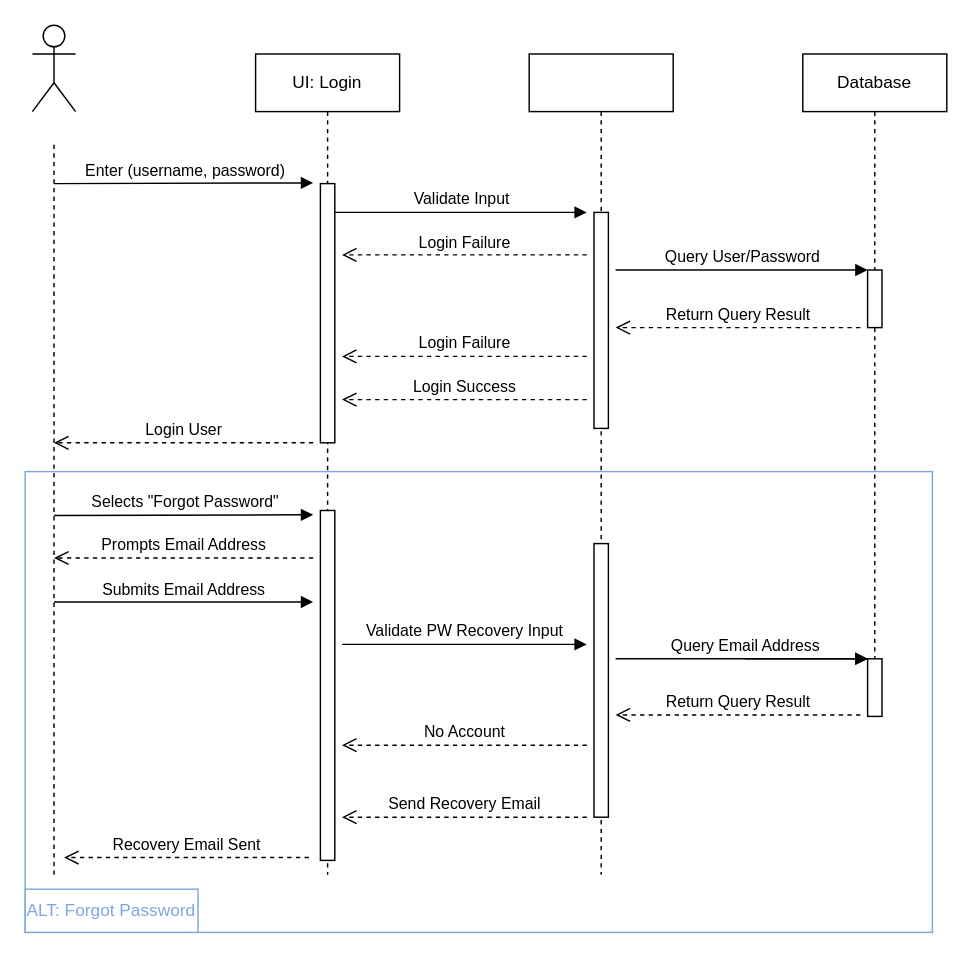
This 972x958 diagram has some shape labels left out. The shapes that lost their labels are listed below. From the top down, each one's box as (x1, y1, x2, y2) in pixels, then its label:
(31, 24, 76, 112): User
(528, 53, 673, 875): API
